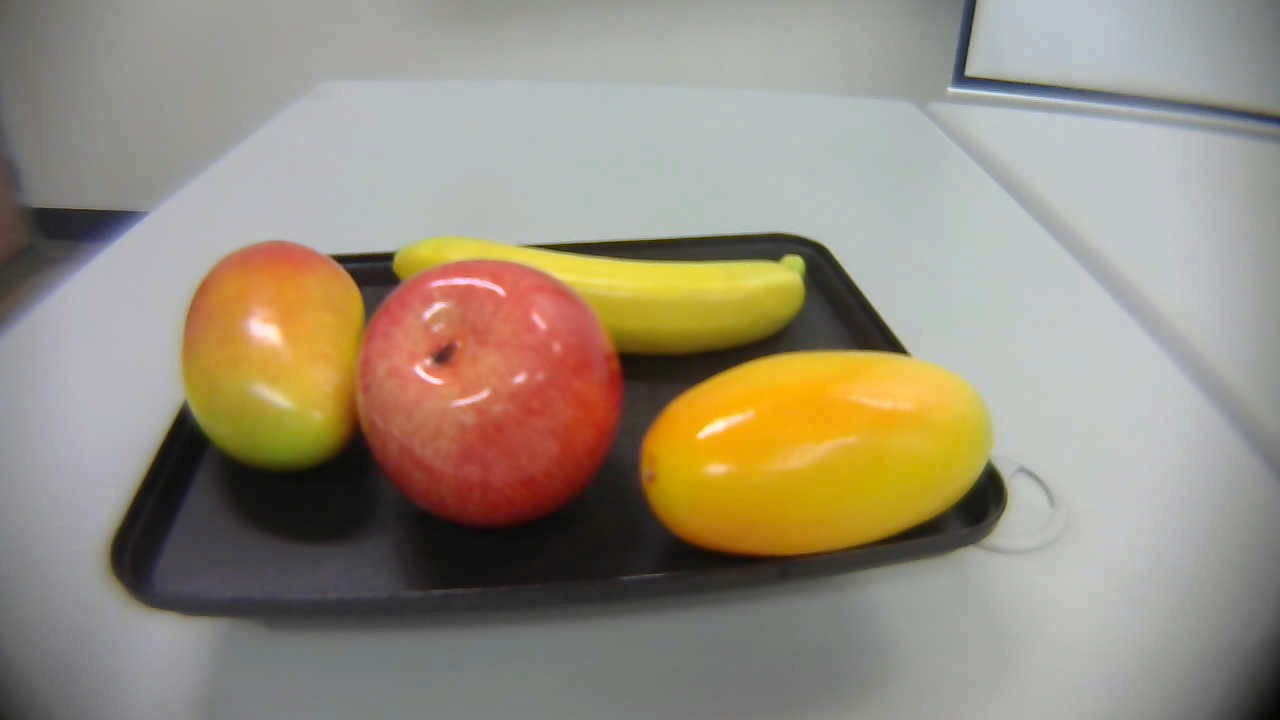banana: (390, 231, 815, 348)
red apple: (353, 256, 633, 529)
red mango: (175, 218, 367, 479)
yellow mango: (628, 331, 1015, 576)
